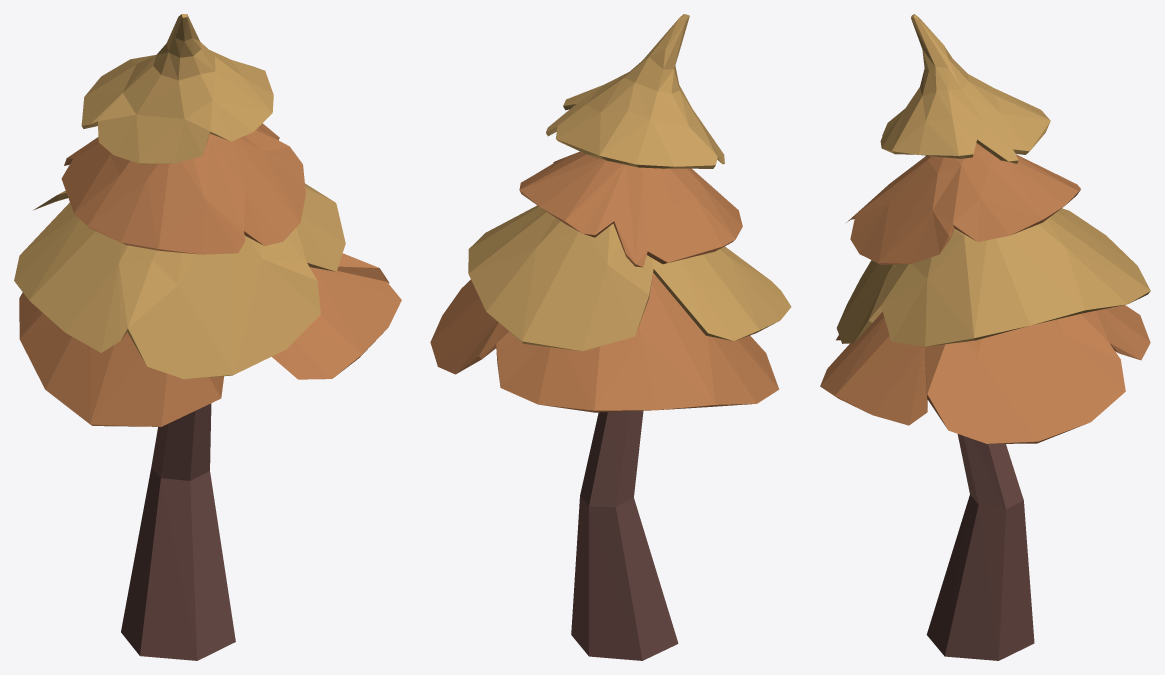
File: PineTree_Autumn_5.lod1.glb
3 renders of one model, left to right at view 1: azimuth 30°, elevation 25°; view 2: azimuth 150°, elevation 25°; view 3: azimuth 270°, elevation 25°, orthographic. The views are drawn at different scales.
Parts seen in each view (by area): view 1: PineTree_Autumn_5; view 2: PineTree_Autumn_5; view 3: PineTree_Autumn_5.
Part boxes in pixels (x1,y1,x2,y2): PineTree_Autumn_5: [14, 14, 401, 660]; PineTree_Autumn_5: [430, 14, 791, 660]; PineTree_Autumn_5: [820, 14, 1150, 660].
Size of the model in its own units: 1.47 by 2.7 by 1.32.
